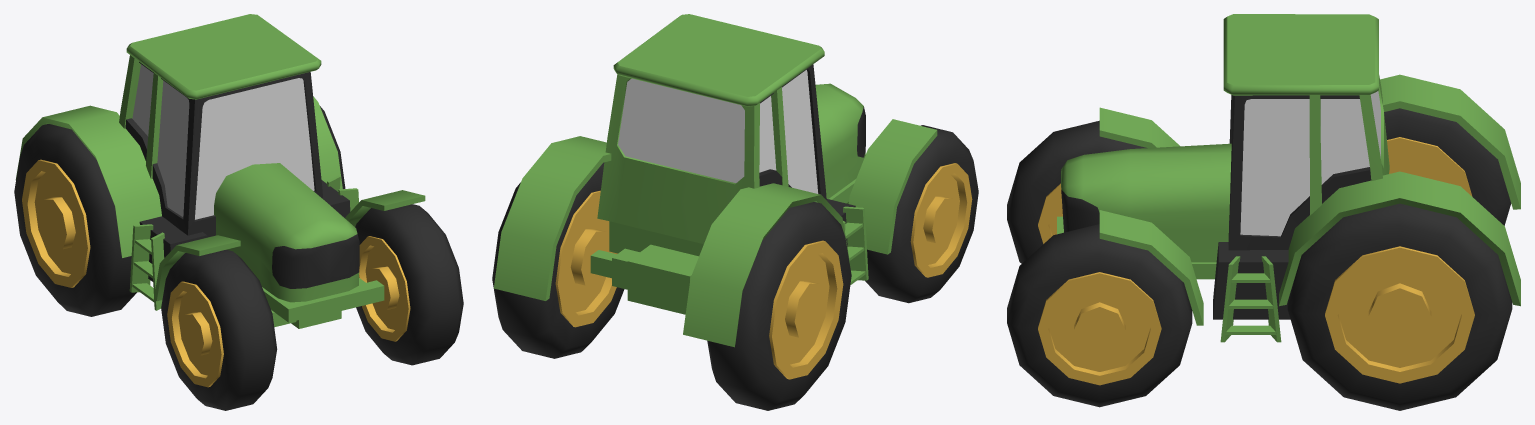
Rendered from Tractor_01.fbx.
3 views of the same model, side by side, from view 1: azimuth 30°, elevation 25°; view 2: azimuth 150°, elevation 25°; view 3: azimuth 270°, elevation 25° (orthographic). The views are drawn at different scales.
Parts seen in each view (by area): view 1: Tractor_01, Tractor_01_Wheel_B_R, Tractor_01_Wheel_F_R, Tractor_01_Wheel_F_L; view 2: Tractor_01, Tractor_01_Wheel_B_R, Tractor_01_Wheel_F_R, Tractor_01_Wheel_B_L; view 3: Tractor_01, Tractor_01_Wheel_B_L, Tractor_01_Wheel_F_L, Tractor_01_Wheel_B_R, Tractor_01_Wheel_F_R.
Part boxes in pixels (x1,y1,x2,y2): Tractor_01: (15, 14, 425, 328); Tractor_01_Wheel_B_R: (14, 124, 136, 316); Tractor_01_Wheel_F_R: (161, 249, 277, 410); Tractor_01_Wheel_F_L: (355, 204, 463, 365); Tractor_01: (493, 14, 937, 347); Tractor_01_Wheel_B_R: (707, 202, 851, 410); Tractor_01_Wheel_F_R: (865, 125, 978, 303); Tractor_01_Wheel_B_L: (492, 162, 624, 358); Tractor_01: (1057, 14, 1520, 342); Tractor_01_Wheel_B_L: (1287, 203, 1512, 410); Tractor_01_Wheel_F_L: (1007, 224, 1192, 407); Tractor_01_Wheel_B_R: (1384, 108, 1511, 225); Tractor_01_Wheel_F_R: (1007, 120, 1147, 263).
Bounding box in the file's own units: 0.2617 × 0.2584 × 0.4032.
